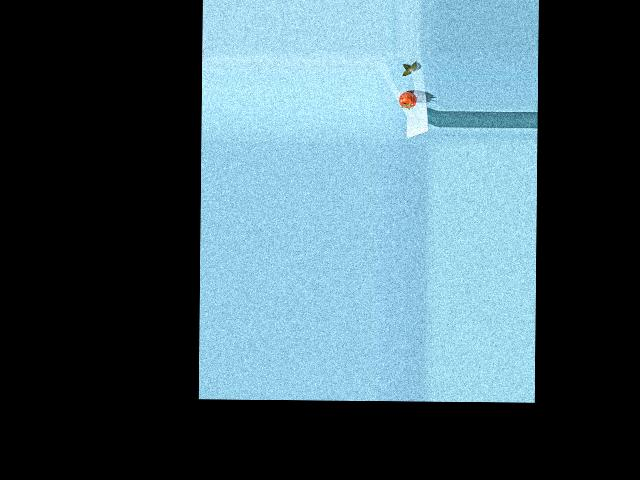tomato: (398, 91, 417, 108)
